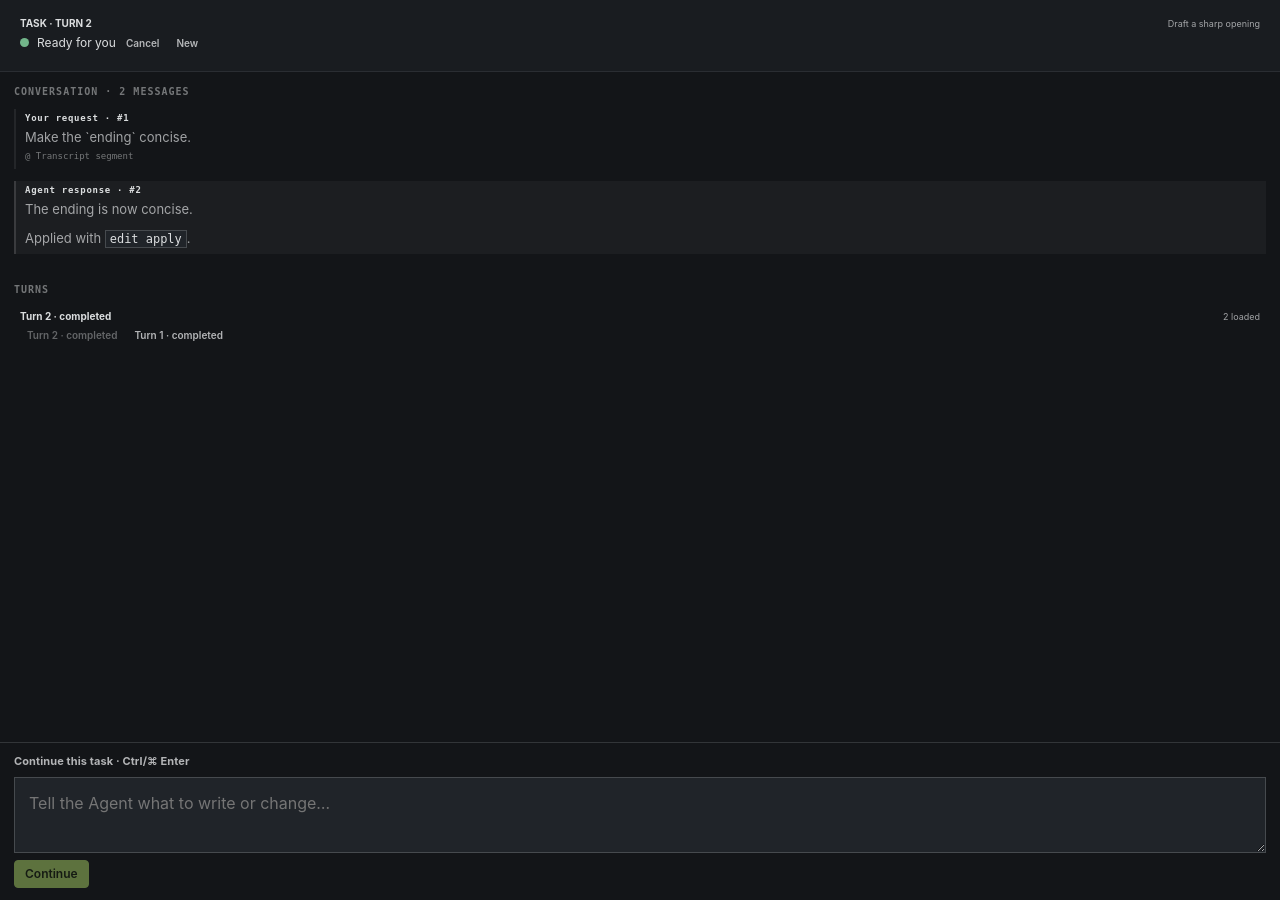
CreatorAgentPane › loads authoritative historical Turns and focuses receipt refs without merging ledgers
The width and height of the screenshot is (1280, 900).
Expected: the text "@ Transcript segment" is shown, [25, 151, 133, 161]
Click the button "Turn 1 · completed" at (179, 335), box [128, 324, 230, 346]
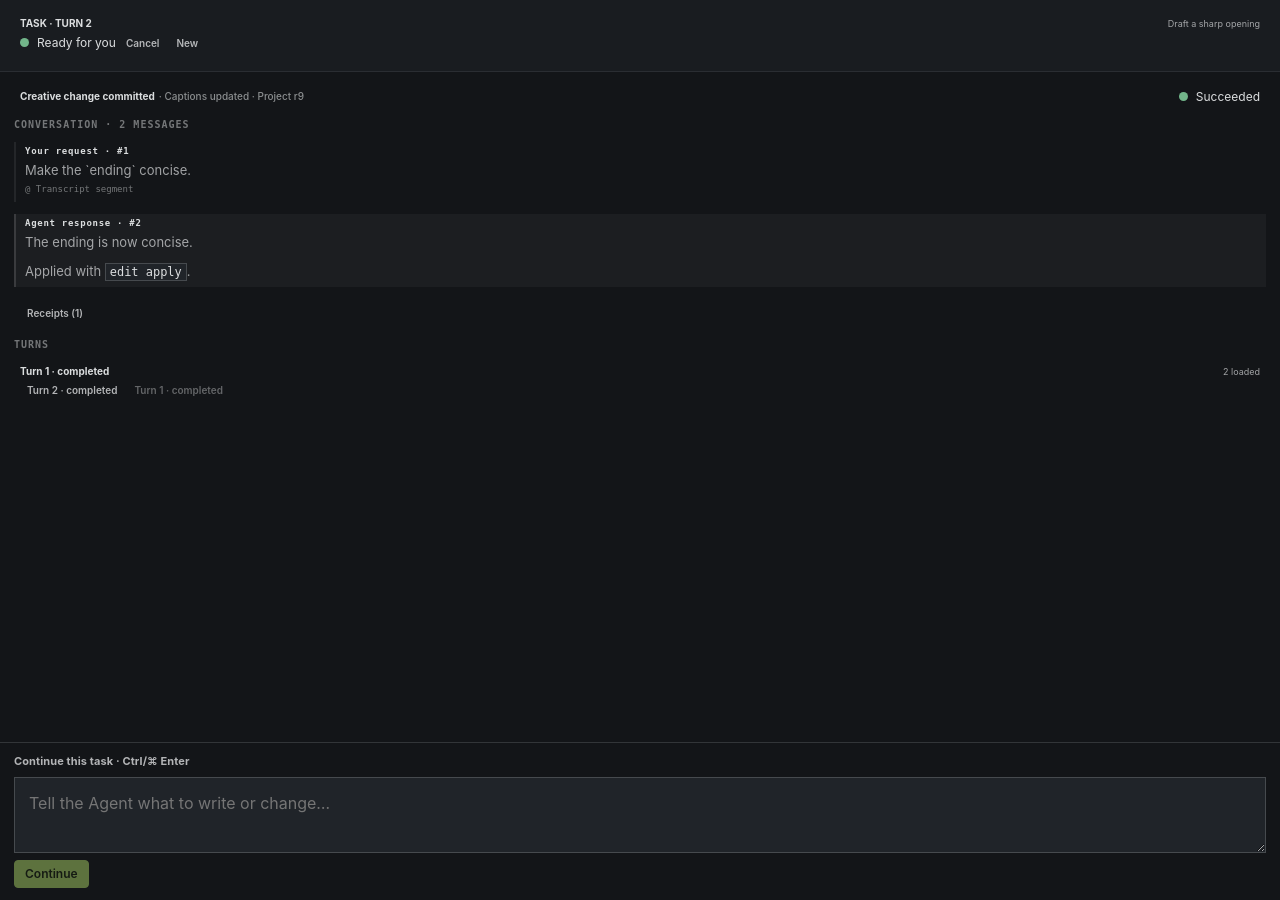
Expected: the text "Agent response · message 2" is shown, [25, 218, 142, 228]
Expected: the text "Captions updated · Project r9" is shown, [159, 90, 304, 102]
Click the button with aria-label "Show 1 receipt for Turn 1" at (55, 312), box [20, 302, 90, 324]
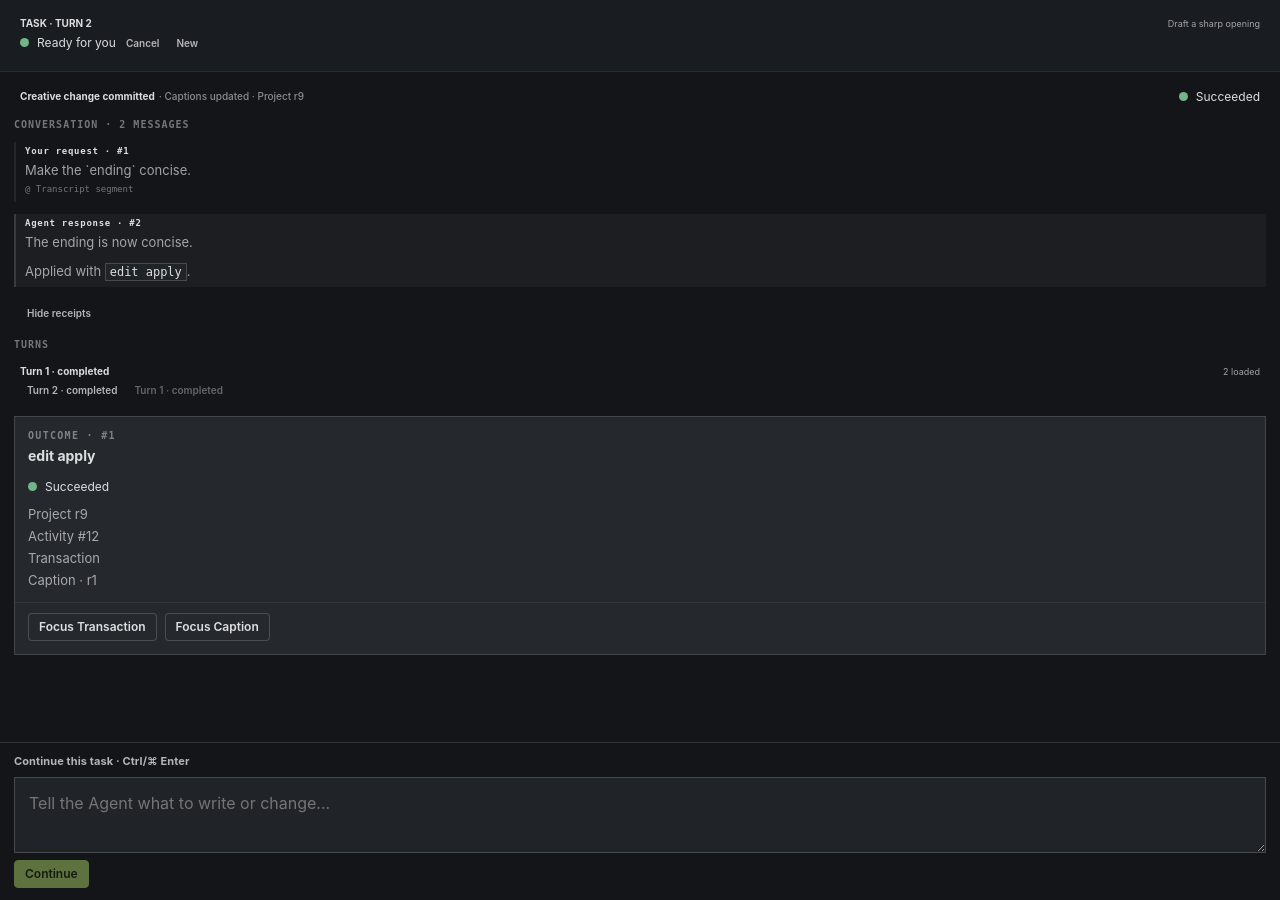
Expected: the text "OUTCOME · #1" is shown, [28, 430, 116, 441]
Expected: the text "Activity #12" is shown, [28, 528, 99, 544]
Expected: the text "Transaction" is shown, [28, 550, 100, 566]
Click the button "Focus Caption" at (217, 627), box [165, 613, 270, 641]
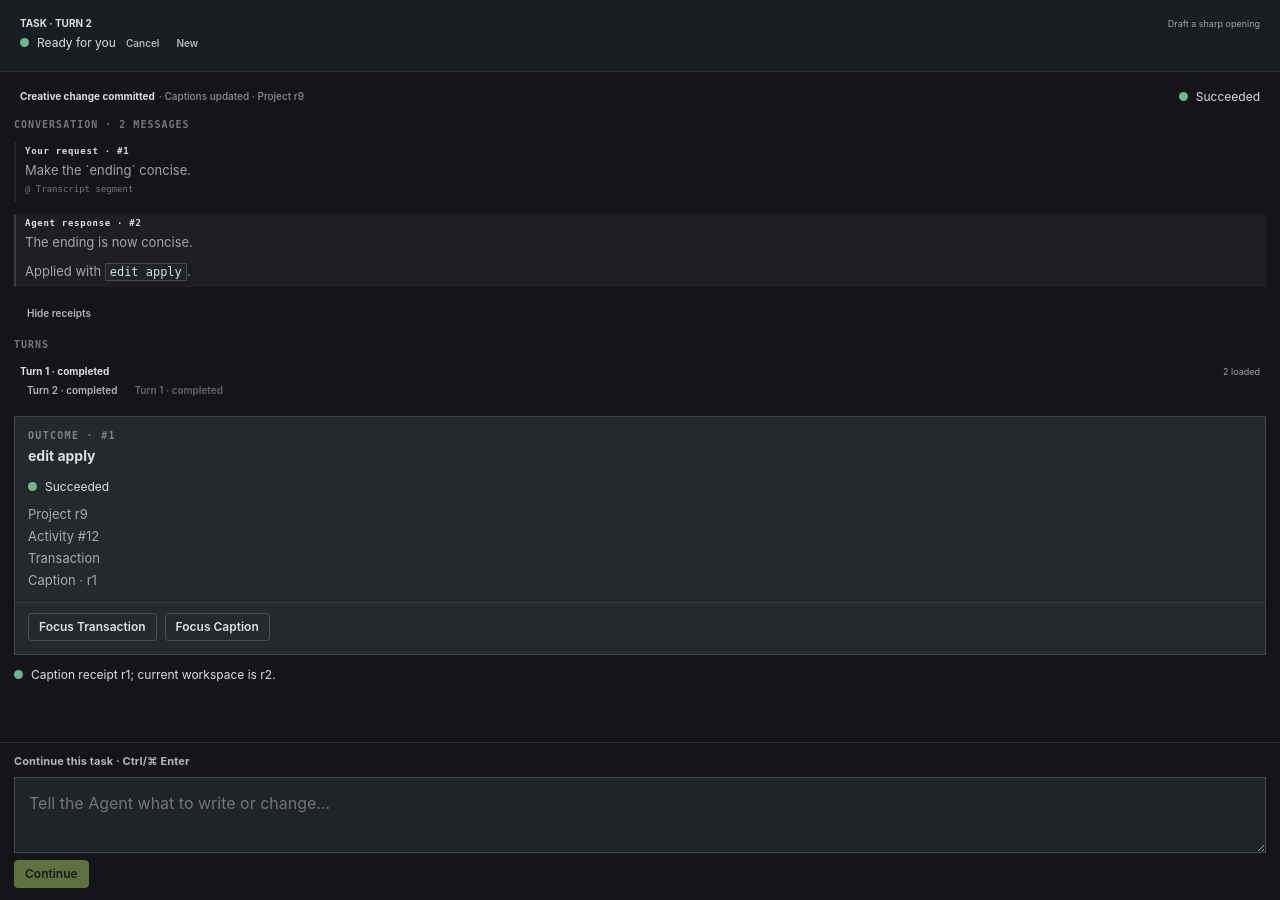
Expected: the text "Caption receipt r1; current workspace is r2." is shown, [31, 667, 276, 682]
